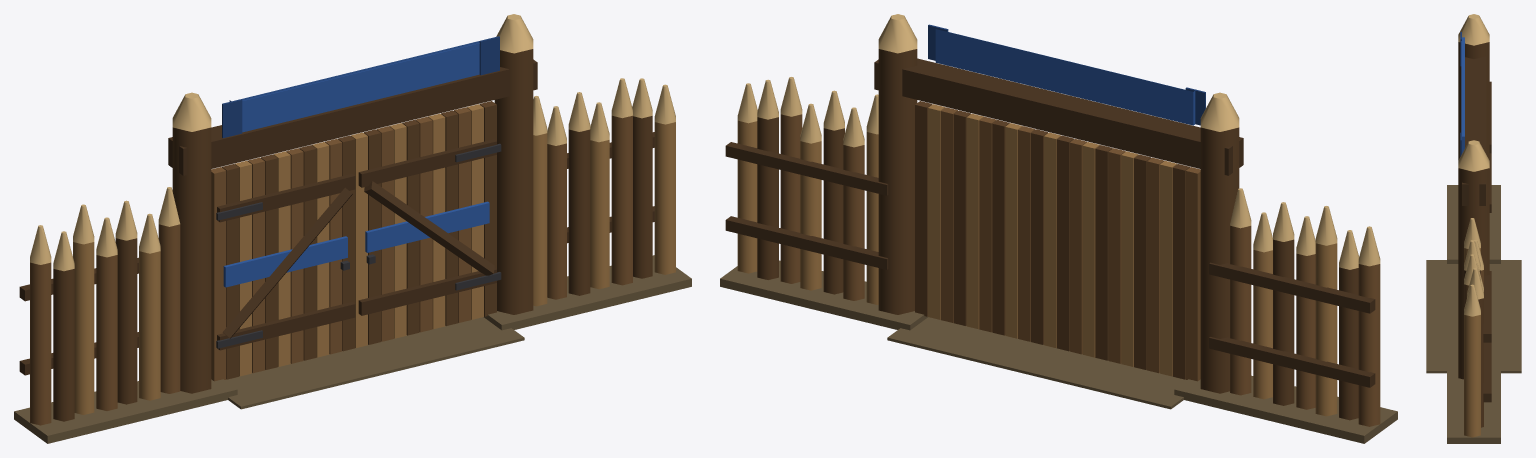
Rendered from palisade-gate.glb.
3 views of the same model, side by side, from view 1: azimuth 30°, elevation 25°; view 2: azimuth 150°, elevation 25°; view 3: azimuth 270°, elevation 25° (orthographic). The views are drawn at different scales.
Visible parts, largest first — view 1: palisade-gate; view 2: palisade-gate; view 3: palisade-gate.
Part boxes in pixels (<box>): palisade-gate: <box>14,14,691,443</box>; palisade-gate: <box>720,14,1397,443</box>; palisade-gate: <box>1426,14,1521,443</box>.
Size of the model in its own units: 10 by 4.4 by 1.6.
Materials: 1 (1 with a texture image).
